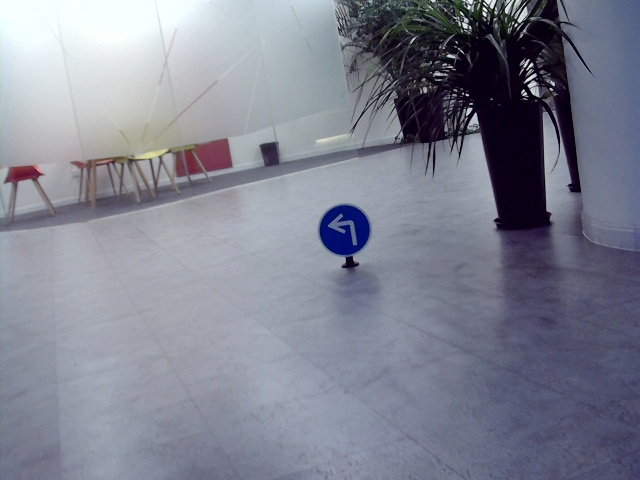turn_left: (326, 211, 358, 246)
